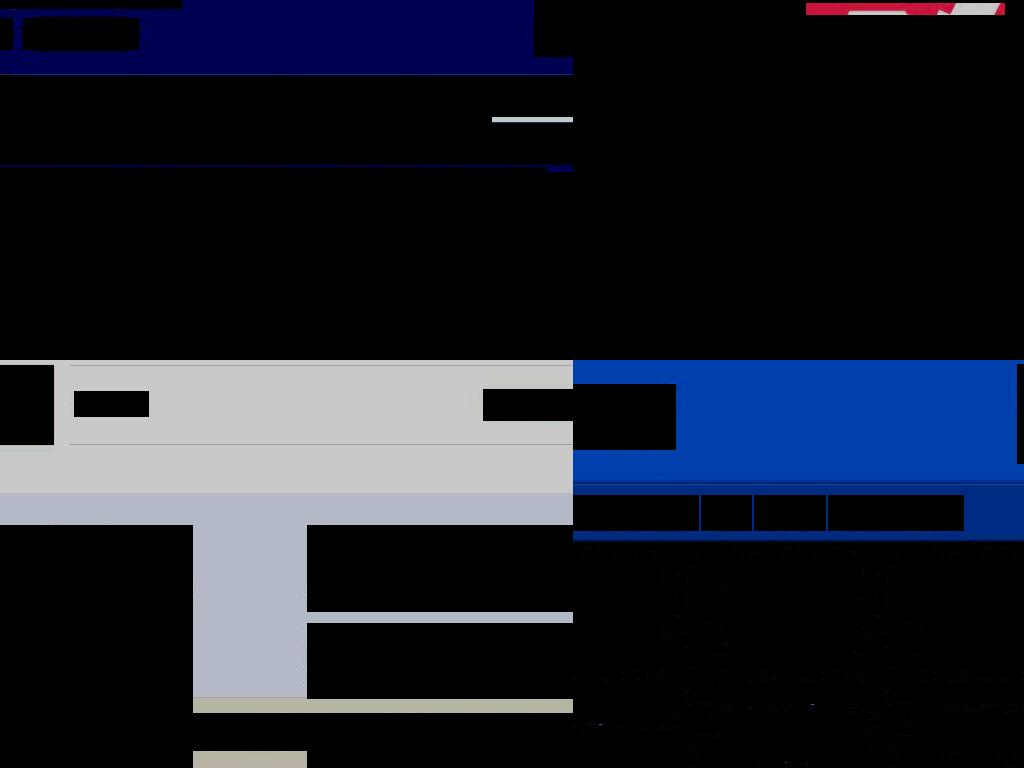button: (307, 727, 573, 768), (573, 298, 741, 360), (13, 75, 147, 117), (147, 75, 281, 117), (281, 75, 415, 117), (415, 75, 549, 117), (828, 495, 964, 531), (573, 495, 699, 531), (0, 365, 54, 445), (81, 117, 180, 159), (0, 307, 150, 332), (23, 18, 139, 50), (236, 117, 320, 159), (320, 117, 389, 159), (483, 389, 573, 421), (430, 117, 492, 159), (754, 495, 826, 531), (123, 251, 236, 273), (180, 117, 236, 159), (275, 251, 379, 273), (30, 117, 81, 159), (74, 391, 149, 417), (701, 495, 752, 531), (389, 117, 430, 159), (0, 165, 54, 191), (987, 316, 1024, 352), (0, 117, 30, 159), (549, 75, 573, 117), (0, 182, 33, 212)
heading: (0, 172, 573, 360), (0, 264, 492, 331), (0, 123, 573, 165), (307, 525, 573, 612), (573, 384, 676, 450), (0, 264, 166, 299), (573, 684, 672, 724), (721, 684, 865, 704), (914, 684, 1024, 704), (0, 185, 29, 209)
image: (573, 0, 1024, 360), (0, 525, 193, 768), (732, 562, 853, 669), (925, 562, 1024, 669), (844, 9, 957, 101), (573, 562, 660, 669), (873, 16, 942, 84), (890, 12, 959, 80), (919, 8, 982, 70), (945, 0, 1006, 41), (106, 18, 138, 50), (74, 392, 98, 416), (0, 18, 12, 50), (613, 322, 650, 328), (637, 322, 674, 328), (873, 19, 880, 26)
link: (914, 713, 1024, 751), (0, 757, 48, 768)
text: (0, 167, 547, 239), (0, 251, 528, 297), (0, 713, 573, 751), (307, 623, 573, 699), (573, 312, 963, 354), (0, 332, 573, 357), (721, 714, 865, 762), (341, 738, 534, 757), (573, 734, 672, 768), (0, 309, 150, 330), (0, 251, 119, 272), (0, 0, 182, 9), (35, 23, 105, 42), (106, 391, 149, 417), (28, 214, 68, 235), (240, 251, 271, 272), (0, 214, 25, 235), (47, 757, 87, 768), (559, 79, 573, 106)
